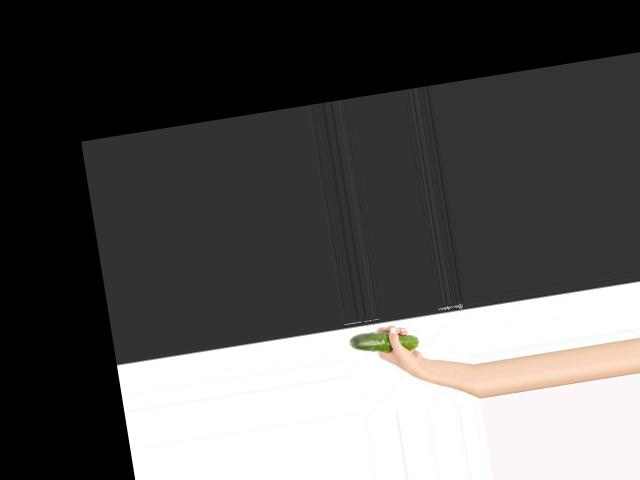cucumber: (347, 324, 418, 358)
